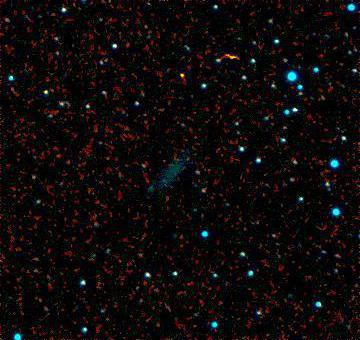star: (168, 61, 198, 91)
